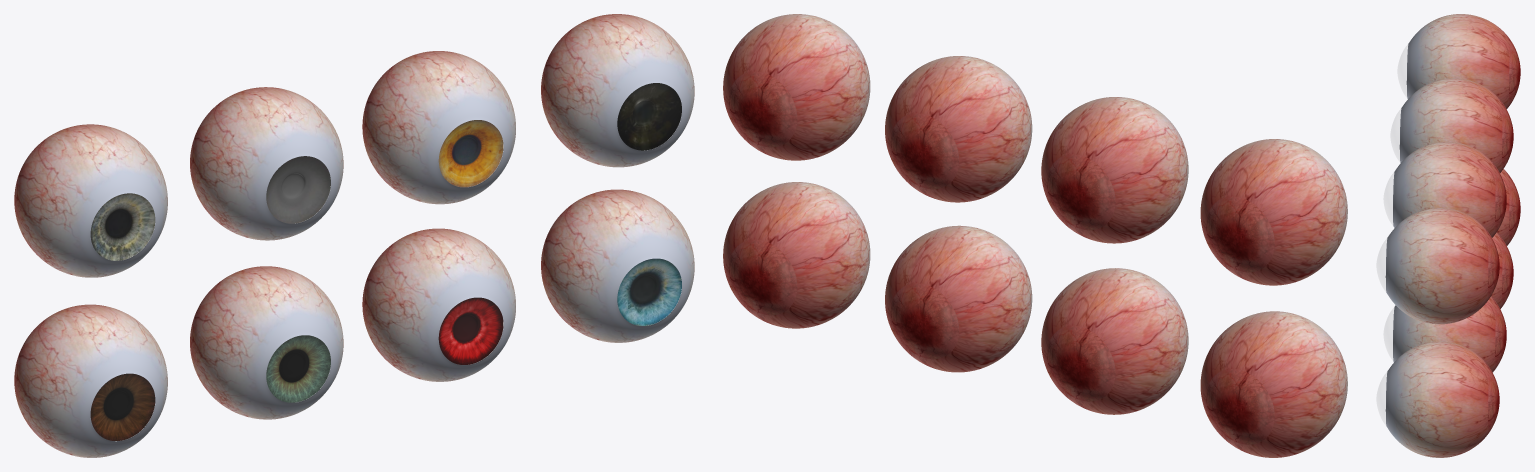
The model's file is eye_study.glb.
3 renders of one model, left to right at view 1: azimuth 30°, elevation 25°; view 2: azimuth 150°, elevation 25°; view 3: azimuth 270°, elevation 25°, orthographic. The views are drawn at different scales.
Visible parts, largest first — view 1: Sclera_4, Sclera 3_13, Sclera 5_20, Sclera 7_26, Sclera 1_7, Sclera 2_10, Sclera 4_17, Sclera 6_23, Iris 3_12, Iris 4_16, Iris 5_19, Iris 1_6 (+4 smaller); view 2: Sclera 5_20, Sclera 6_23, Sclera_4, Sclera 3_13, Sclera 4_17, Sclera 2_10, Sclera 1_7, Sclera 7_26; view 3: Sclera_4, Sclera 2_10, Sclera 7_26, Sclera 5_20, Sclera 1_7, Sclera 6_23, Sclera 3_13, Sclera 4_17.
Boxes of the visible parts, x1=… form: Sclera_4: x1=541, y1=14, x2=694, y2=167; Sclera 3_13: x1=14, y1=304, x2=167, y2=457; Sclera 5_20: x1=14, y1=124, x2=167, y2=277; Sclera 7_26: x1=362, y1=51, x2=515, y2=204; Sclera 1_7: x1=190, y1=87, x2=343, y2=240; Sclera 2_10: x1=541, y1=189, x2=694, y2=342; Sclera 4_17: x1=190, y1=266, x2=343, y2=419; Sclera 6_23: x1=362, y1=228, x2=515, y2=381; Iris 3_12: x1=90, y1=373, x2=155, y2=440; Iris 4_16: x1=266, y1=335, x2=330, y2=402; Iris 5_19: x1=90, y1=193, x2=155, y2=260; Iris 1_6: x1=266, y1=156, x2=330, y2=223; Sclera 5_20: x1=1200, y1=139, x2=1347, y2=285; Sclera 6_23: x1=885, y1=225, x2=1032, y2=372; Sclera_4: x1=723, y1=14, x2=870, y2=160; Sclera 3_13: x1=1200, y1=311, x2=1347, y2=457; Sclera 4_17: x1=1041, y1=268, x2=1188, y2=414; Sclera 2_10: x1=723, y1=182, x2=870, y2=328; Sclera 1_7: x1=1041, y1=97, x2=1188, y2=243; Sclera 7_26: x1=885, y1=56, x2=1032, y2=202; Sclera_4: x1=1377, y1=208, x2=1499, y2=324; Sclera 2_10: x1=1377, y1=341, x2=1499, y2=457; Sclera 7_26: x1=1384, y1=142, x2=1506, y2=237; Sclera 5_20: x1=1398, y1=14, x2=1520, y2=108; Sclera 1_7: x1=1391, y1=78, x2=1513, y2=172; Sclera 6_23: x1=1384, y1=296, x2=1506, y2=372; Sclera 3_13: x1=1497, y1=169, x2=1520, y2=245; Sclera 4_17: x1=1491, y1=232, x2=1513, y2=308.
Size of the model in its own units: 976 by 461 by 249.
Materials: 10 (9 with a texture image).
